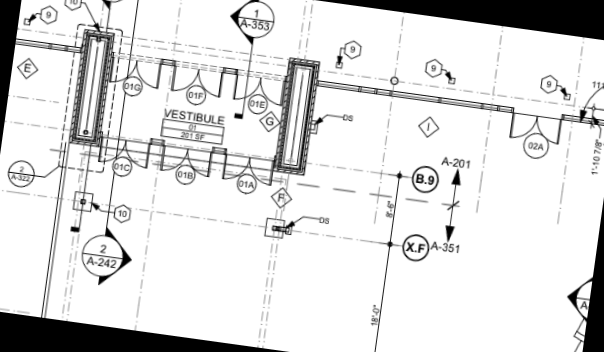double door: (507, 111, 566, 146), (168, 64, 227, 99), (232, 71, 289, 107), (158, 142, 215, 178), (107, 54, 164, 90), (220, 152, 279, 186), (96, 136, 153, 170)
